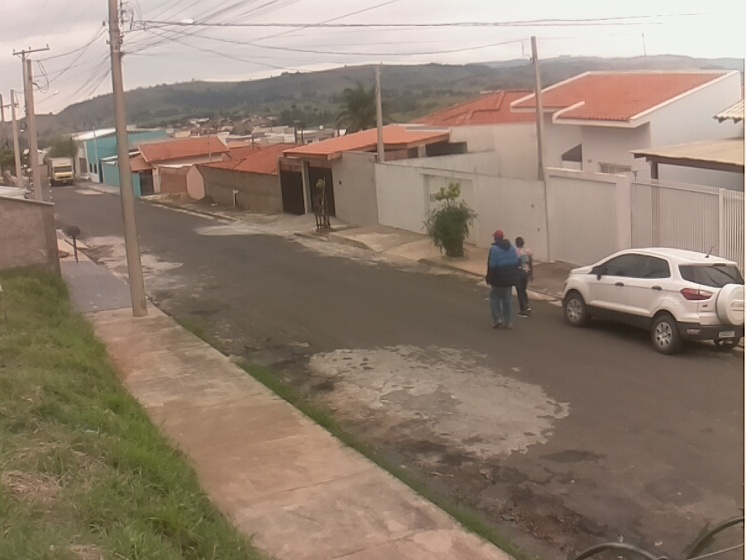person: (484, 229, 518, 329), (510, 235, 537, 319)
